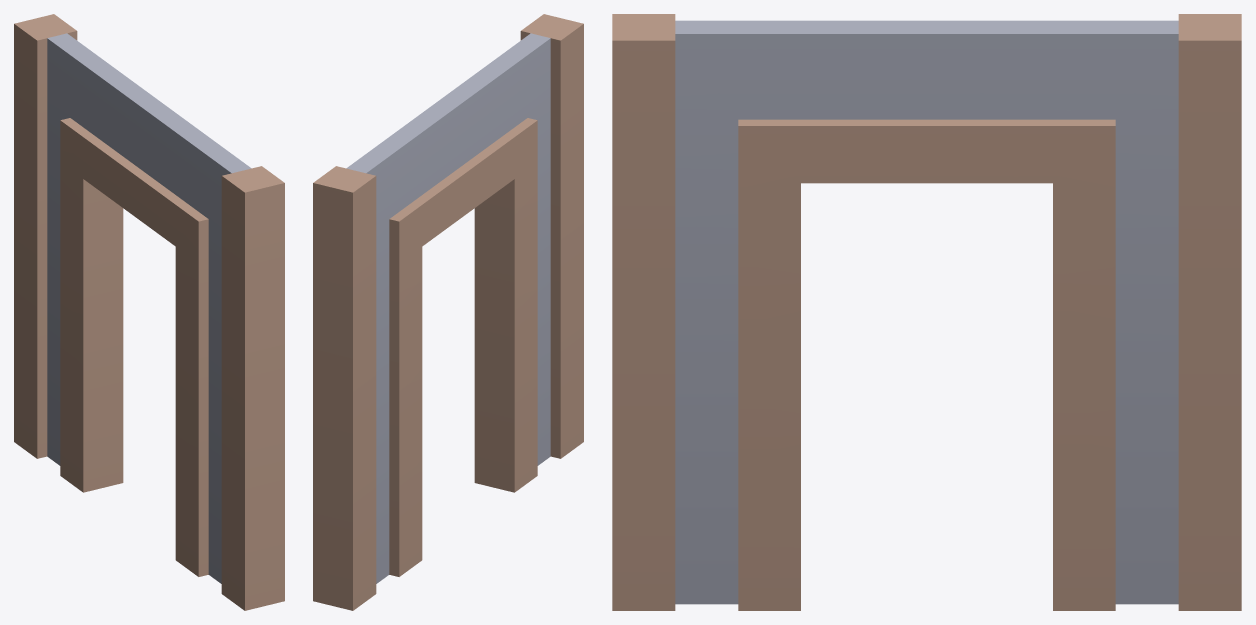
File: wall-doorway-square.glb
3 renders of one model, left to right at view 1: azimuth 30°, elevation 25°; view 2: azimuth 150°, elevation 25°; view 3: azimuth 270°, elevation 25°, orthographic. The views are drawn at different scales.
Visible parts, largest first — view 1: wall-doorway-square; view 2: wall-doorway-square; view 3: wall-doorway-square.
Part boxes in pixels (box(x1,y1,x2,y2)): wall-doorway-square: box(14, 14, 284, 610); wall-doorway-square: box(313, 14, 583, 610); wall-doorway-square: box(612, 14, 1241, 610).
Size of the model in its own units: 0.1 by 1 by 1.
